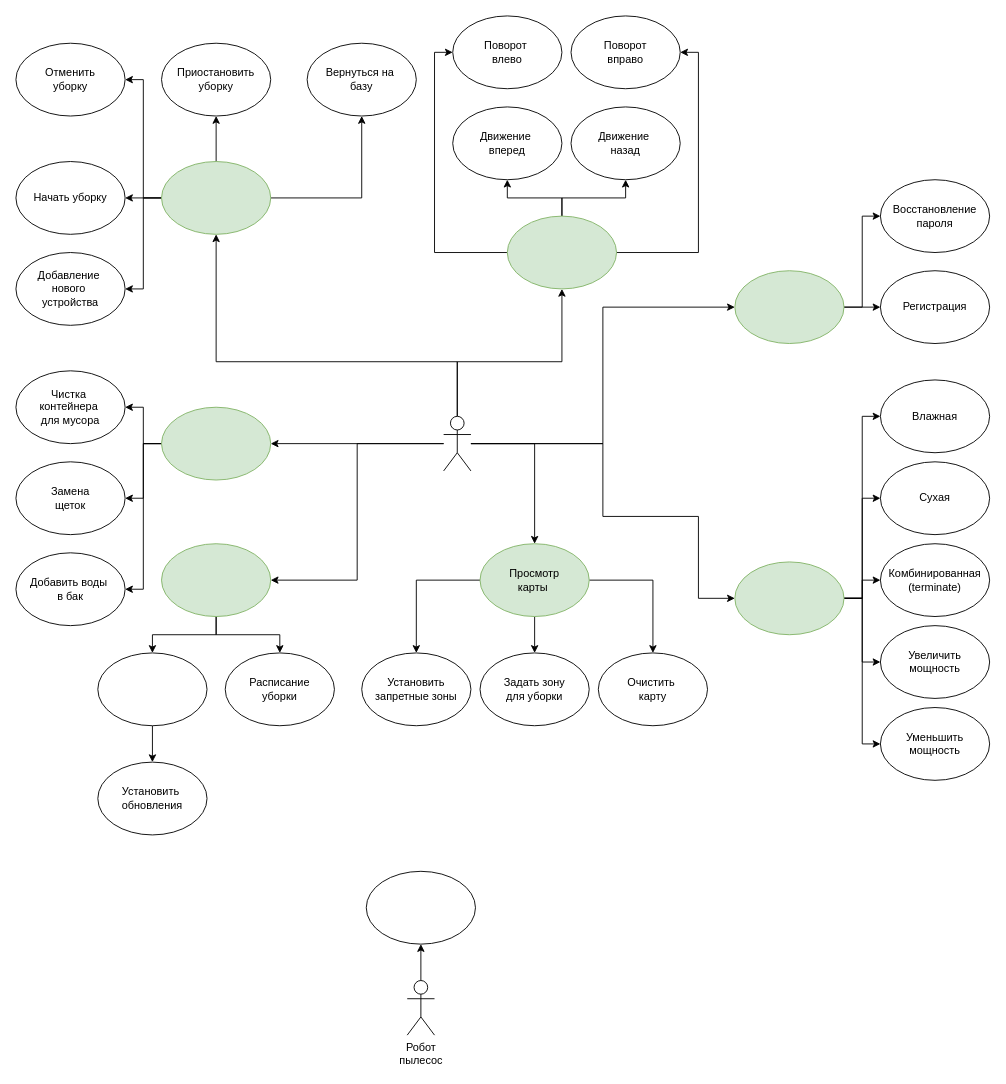
The diagram is 1006 pixels wide and 1084 high, and some of its shapes have lost their labels. Each missing label, with the centre of its shape:
"Вход в систему" belongs at pixel 789 307.
"Настройки" belongs at pixel 216 580.
"Обновление" belongs at pixel 420 907.
"Обслуживание" belongs at pixel 216 443.
"Пользователь" belongs at pixel 457 443.
"Проверить обновления" belongs at pixel 152 689.
"Ручное управление" belongs at pixel 561 252.
"Уборка" belongs at pixel 789 598.
"Управление" belongs at pixel 216 197.
